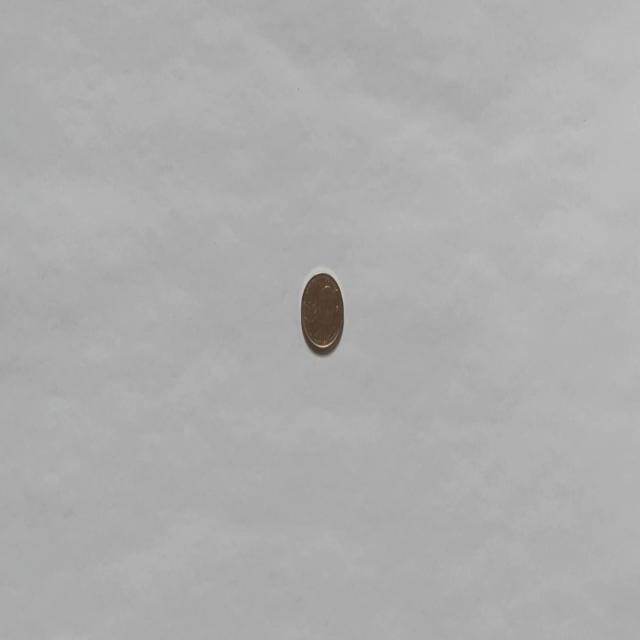seribu rupiah koin: (300, 266, 344, 354)
